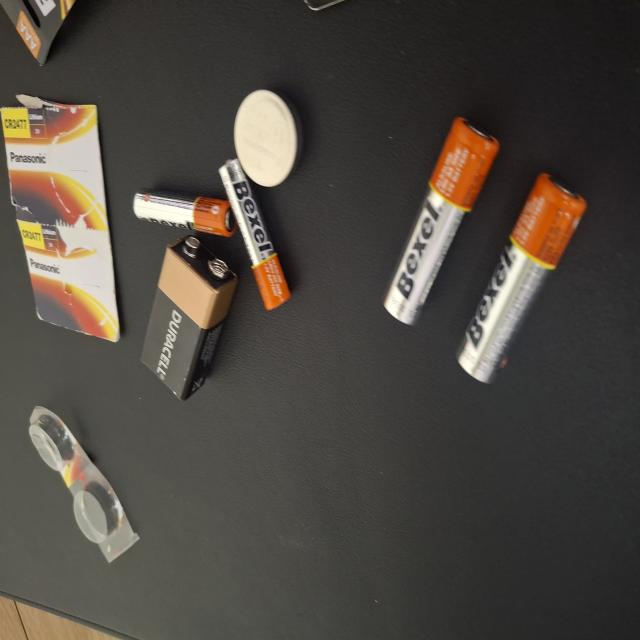9V: (180, 188, 303, 317)
AA: (237, 511, 391, 640)
AAA: (248, 292, 360, 386), (303, 178, 337, 314)
COIN: (340, 312, 413, 403)
